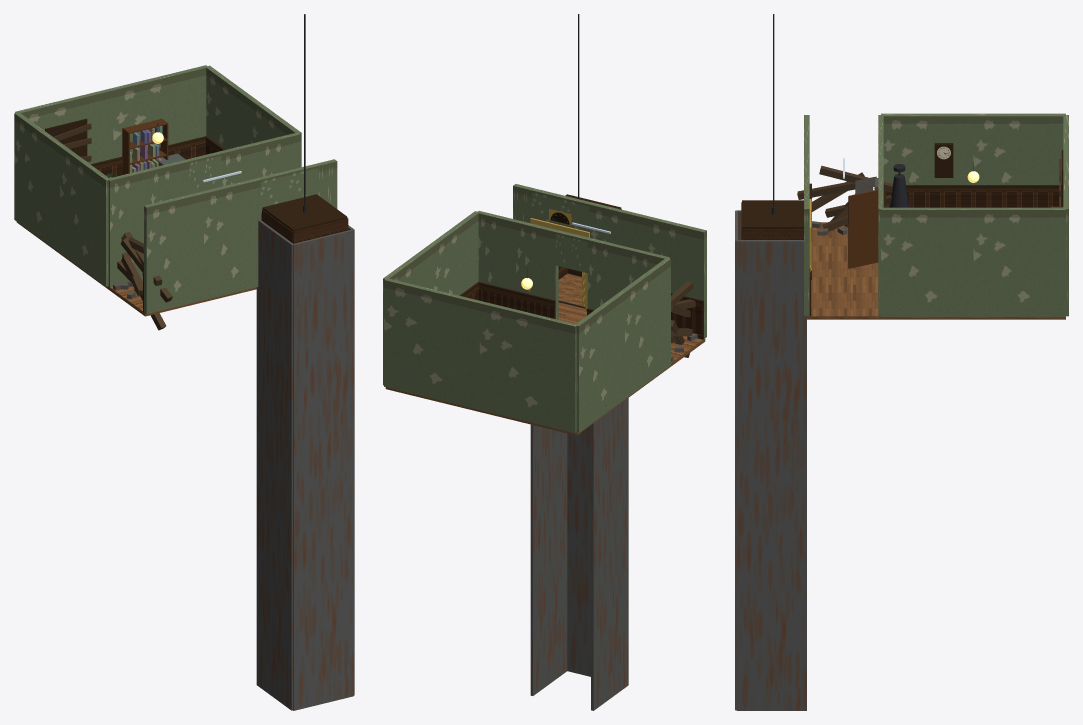
The model's file is office.glb.
The picture shows the model from 3 angles, left to right: view 1: azimuth 30°, elevation 25°; view 2: azimuth 150°, elevation 25°; view 3: azimuth 270°, elevation 25°; orthographic projection.
Visible parts, largest first — view 1: plaster (×7), shaft_back, shaft_L, lintel (×2), car_roof, wainscot, floor_corridor, frame, car_back; view 2: plaster (×7), shaft_L, shaft_R, shaft_back, lintel (×2), wainscot (×2), floor_corridor, car_floor, floor_office; view 3: plaster (×5), shaft_R, floor_corridor, wainscot, leaf, car_roof, shaft_back, car_R, case, floor_office.
Boxes of the visible parts, x1,y1,x2,y2 form: plaster (×7): [14, 65, 337, 313]; shaft_back: [292, 229, 353, 710]; shaft_L: [256, 220, 293, 710]; lintel (×2): [187, 151, 318, 212]; car_roof: [262, 194, 347, 231]; wainscot: [94, 139, 205, 177]; floor_corridor: [108, 279, 256, 316]; frame: [45, 118, 87, 156]; car_back: [293, 218, 347, 243]; plaster (×7): [383, 184, 706, 433]; shaft_L: [591, 398, 628, 710]; shaft_R: [530, 424, 567, 695]; shaft_back: [567, 425, 590, 676]; lintel (×2): [532, 188, 591, 273]; wainscot (×2): [479, 285, 703, 339]; floor_corridor: [558, 302, 705, 367]; car_floor: [558, 273, 584, 308]; floor_office: [385, 367, 668, 435]; plaster (×5): [804, 113, 1068, 317]; shaft_R: [736, 240, 806, 710]; floor_corridor: [807, 222, 880, 319]; wainscot: [886, 188, 1059, 207]; leaf: [848, 189, 878, 268]; car_roof: [742, 200, 803, 228]; shaft_back: [735, 210, 737, 710]; car_R: [742, 229, 803, 239]; case: [934, 143, 953, 177]; floor_office: [881, 317, 1065, 319].
Size of the model in its own units: 6.15 by 20.3 by 9.02.
Materials: 53 (8 with a texture image).
